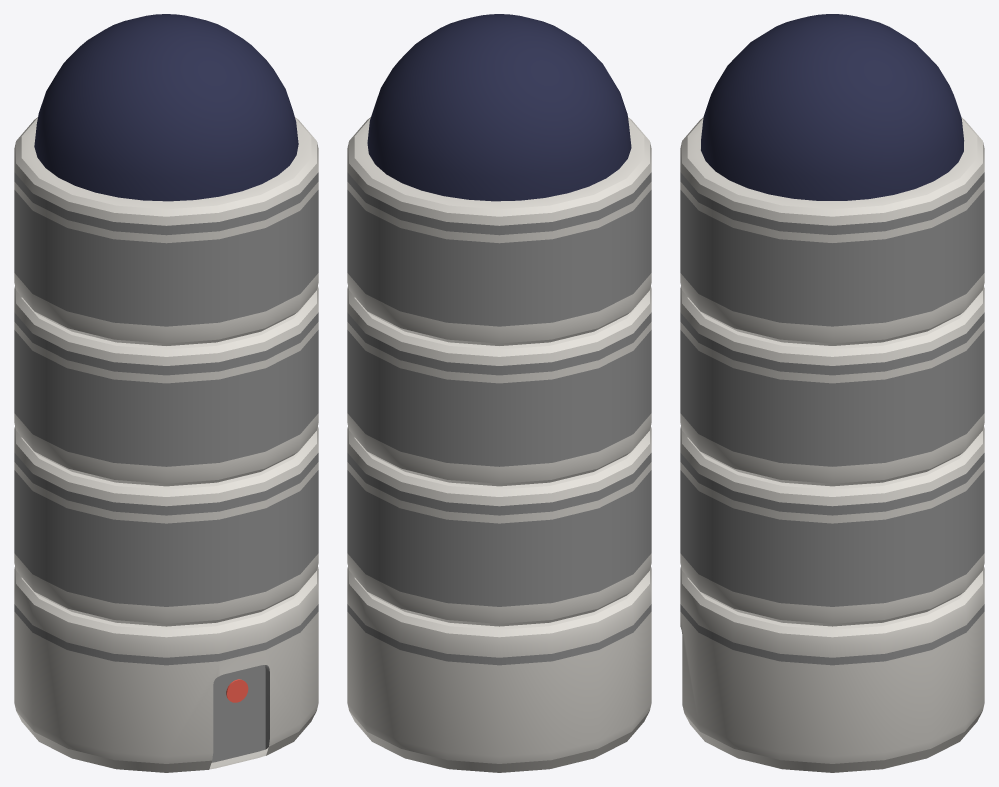
Rendered from 04 Space lab_2.FBX.
The picture shows the model from 3 angles, left to right: view 1: azimuth 30°, elevation 25°; view 2: azimuth 150°, elevation 25°; view 3: azimuth 270°, elevation 25°; orthographic projection.
Parts seen in each view (by area): view 1: Cylinder036; view 2: Cylinder036; view 3: Cylinder036.
Boxes of the visible parts, x1,y1,x2,y2 form: Cylinder036: (14,14,318,772); Cylinder036: (347,14,651,772); Cylinder036: (680,14,984,772).
Size of the model in its own units: 2800 by 6856 by 2757.
